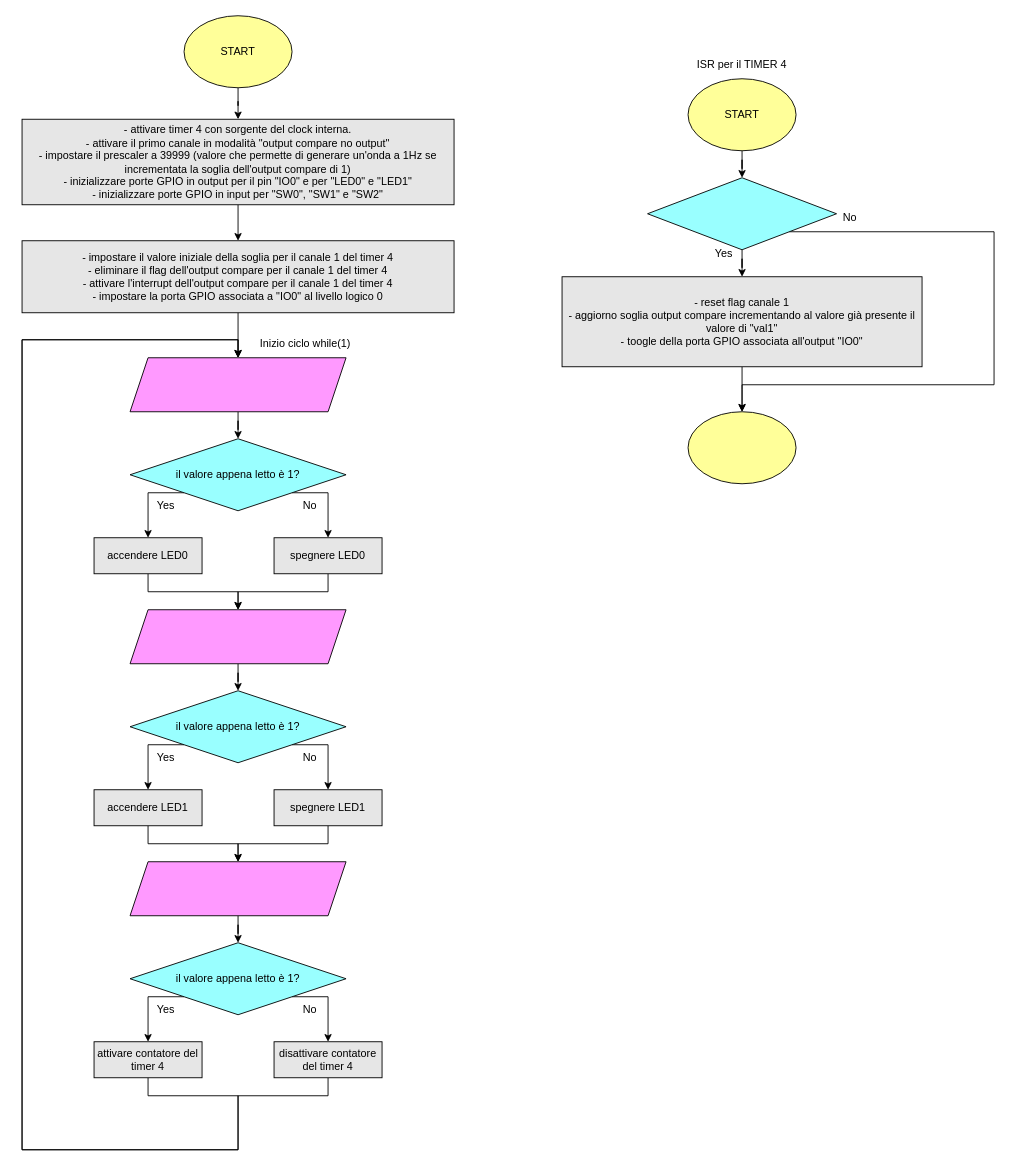
Image size: 1017x1173. Some labels were removed from this diagram. Each missing label, with the box of its shape:
END: (687, 411, 796, 484)
flag del canale 1 attivo?: (647, 177, 837, 250)
leggere valore logioco della porta GPIO associata a "SW0": (129, 357, 346, 412)
leggere valore logioco della porta GPIO associata a "SW1": (129, 609, 346, 664)
leggere valore logioco della porta GPIO associata a "SW2": (129, 861, 346, 916)
